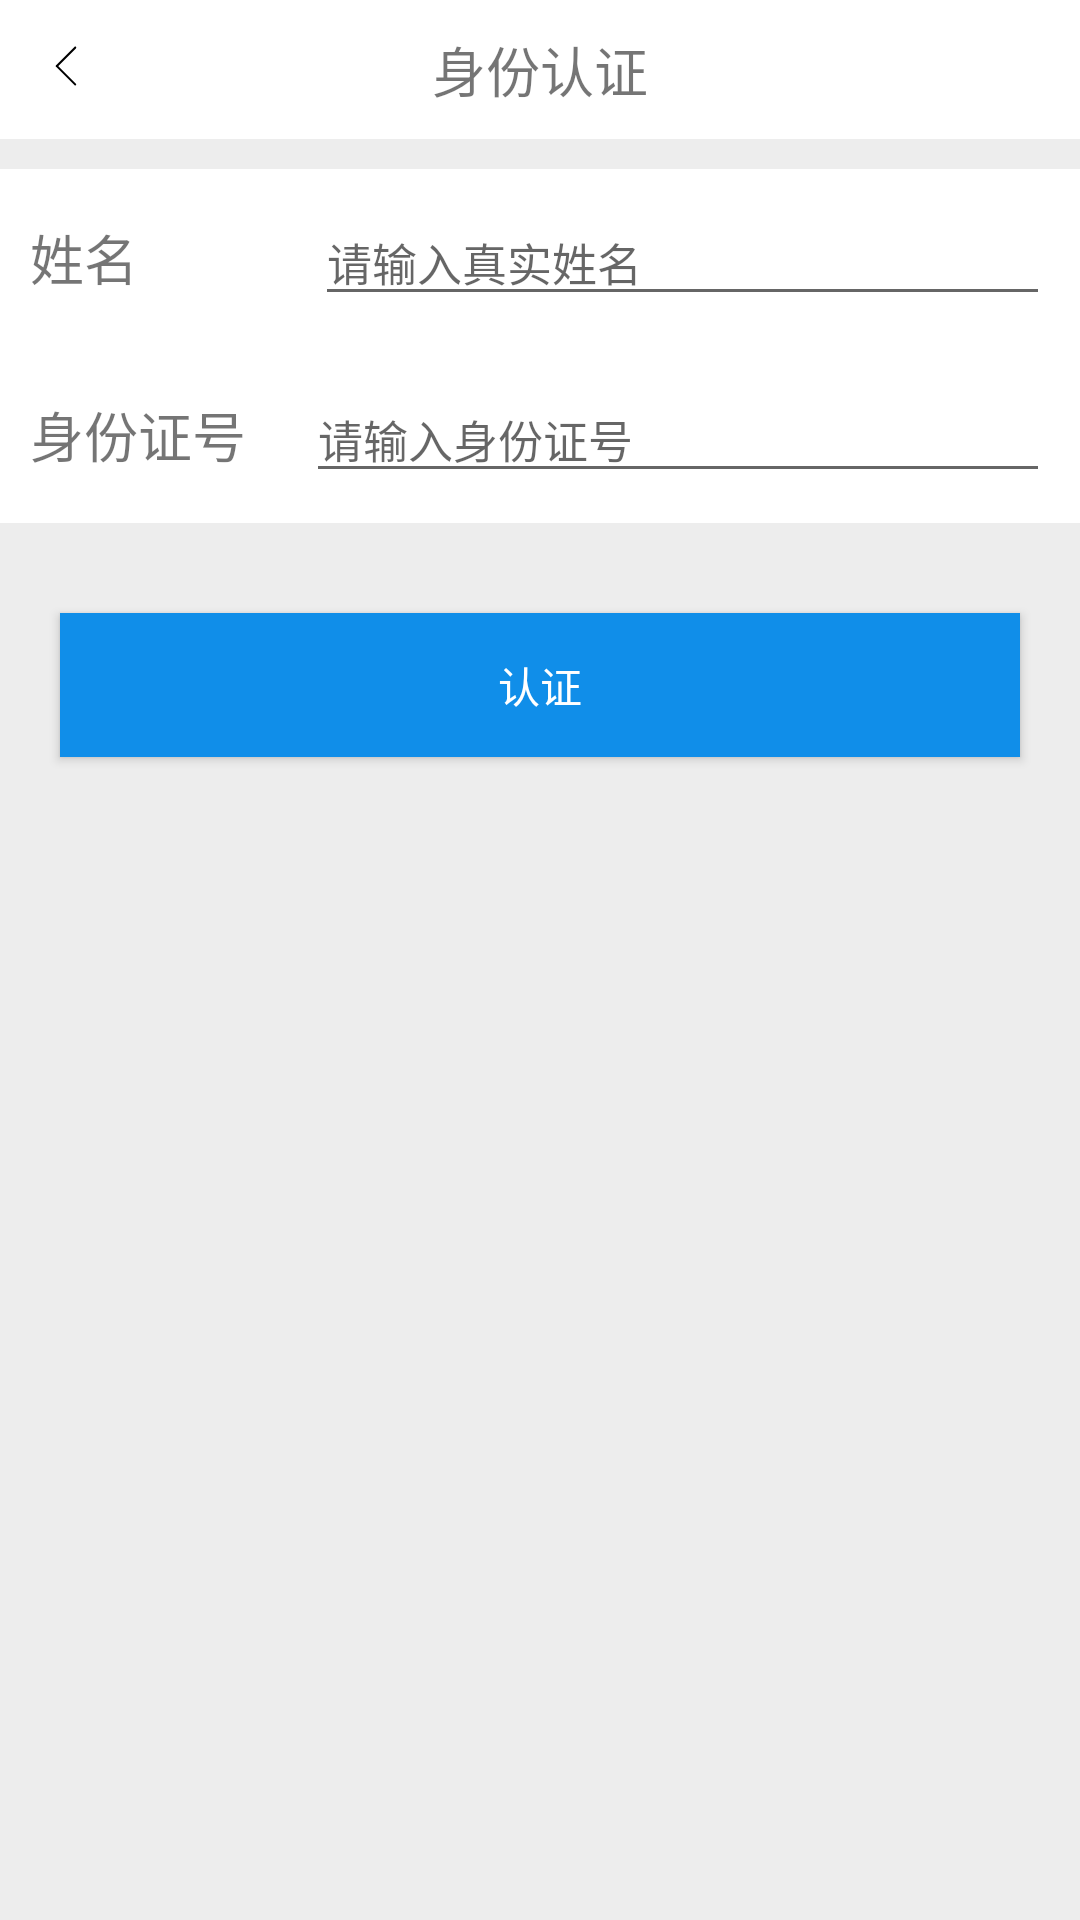

Icon bounding boxes for this 1080px x 1920px phone screenshot, format box=[x1, y1, x2, y2]:
back: box=[55, 46, 77, 86]
